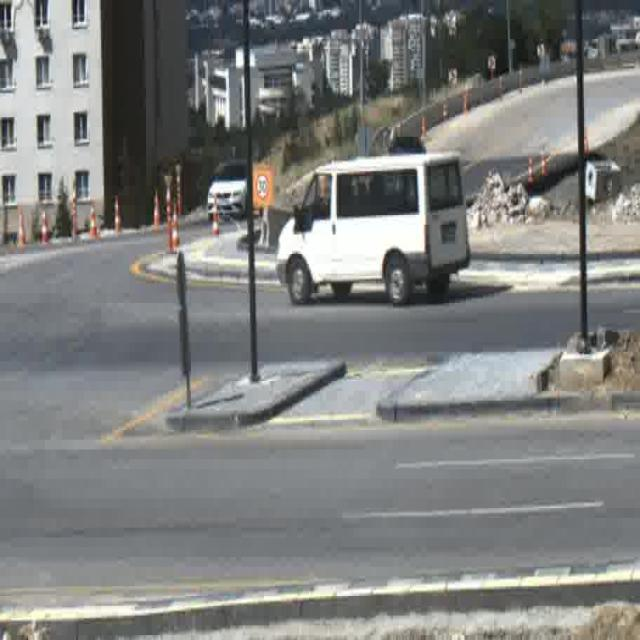Car: (276, 152, 469, 302), (206, 160, 246, 224), (388, 133, 426, 154)
